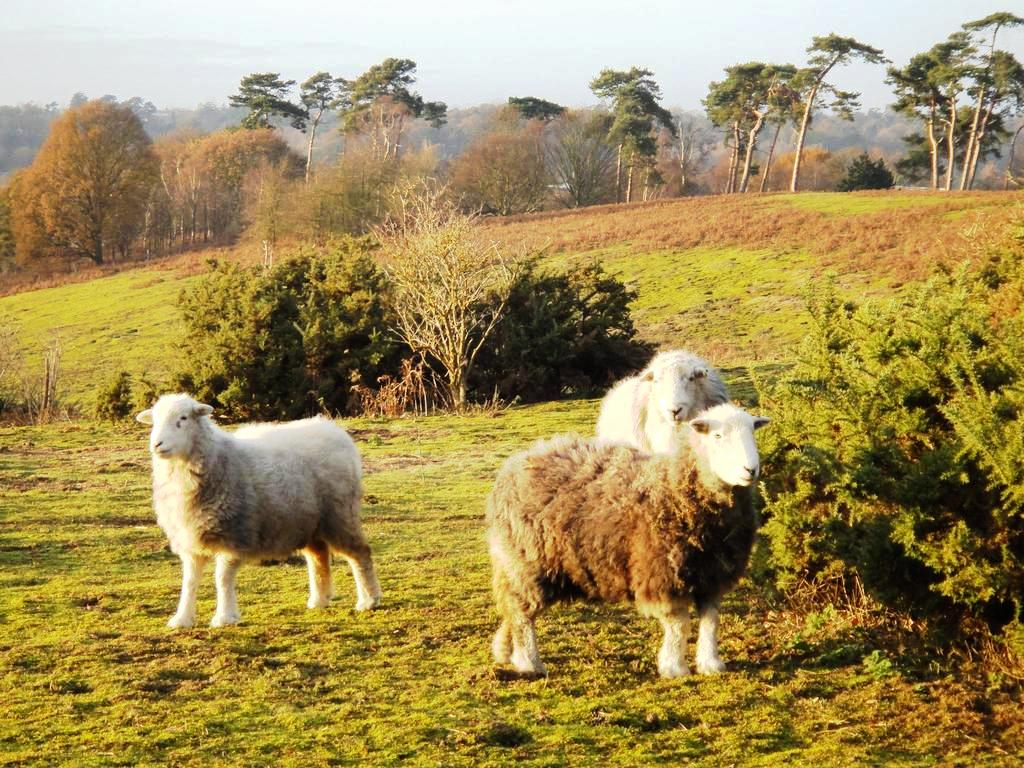Sheep: (484, 400, 770, 680), (136, 392, 382, 629), (592, 347, 728, 456)
